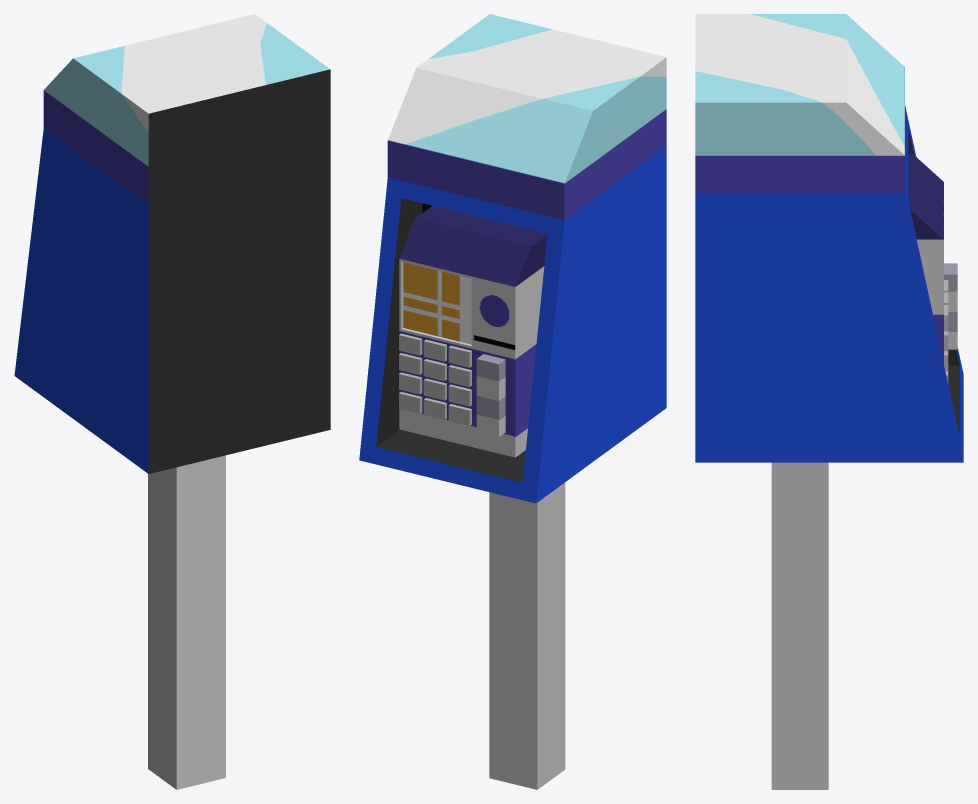
Rendered from Quiz_machine.fbx.
The picture shows the model from 3 angles, left to right: view 1: azimuth 30°, elevation 25°; view 2: azimuth 150°, elevation 25°; view 3: azimuth 270°, elevation 25°; orthographic projection. The views are drawn at different scales.
Parts seen in each view (by area): view 1: Quiz machine; view 2: Quiz machine; view 3: Quiz machine.
Boxes of the visible parts, x1,y1,x2,y2 form: Quiz machine: (14, 14, 330, 789); Quiz machine: (359, 14, 666, 789); Quiz machine: (695, 14, 963, 789).
Size of the model in its own units: 0.261 by 0.9882 by 0.3338.
Materials: 1 (1 with a texture image).
